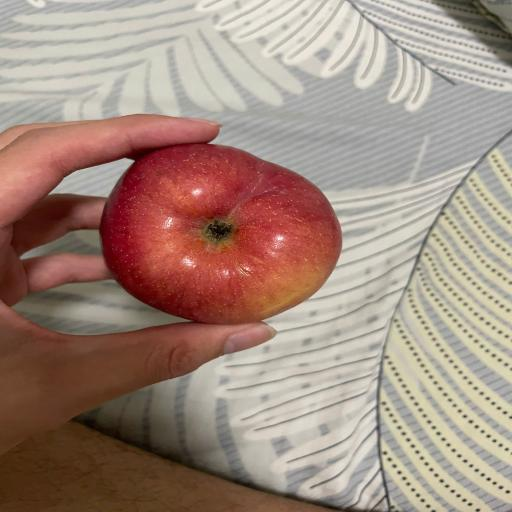apple: (100, 144, 341, 324)
